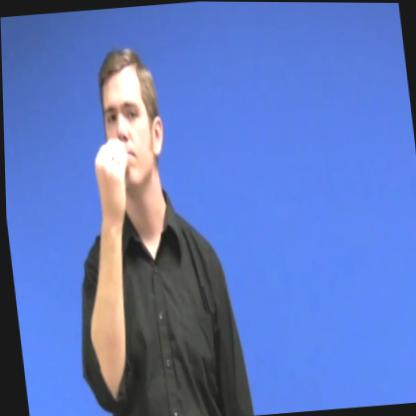Food: (65, 25, 196, 228)
